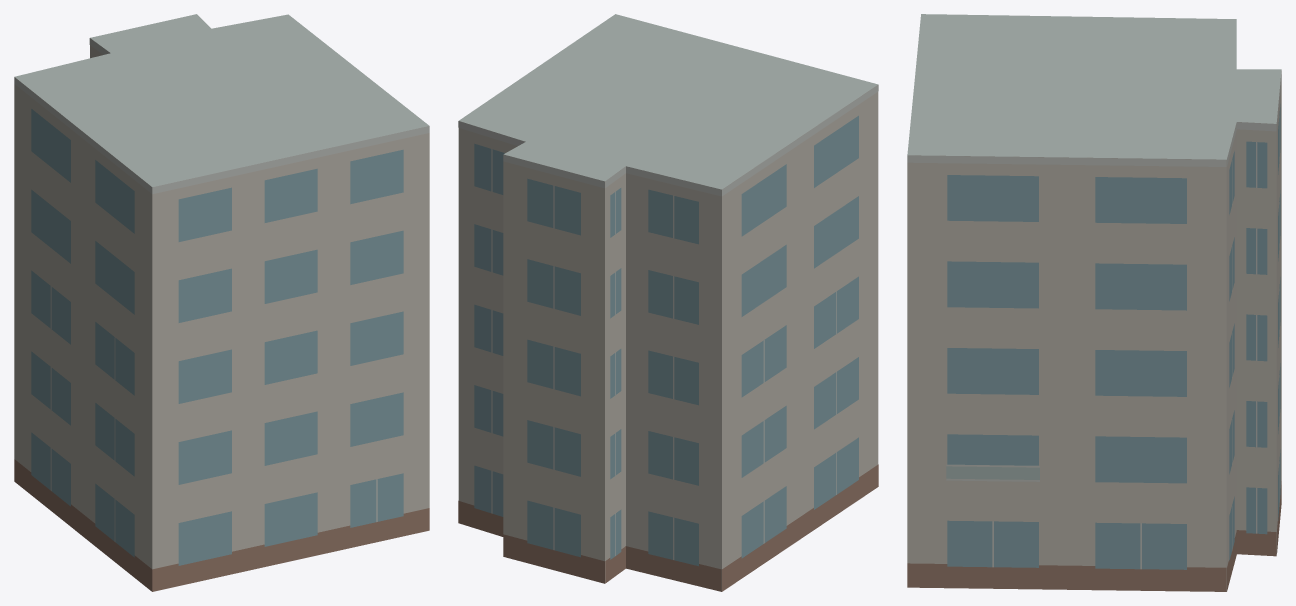
Rendered from survey-upis-32946123.glb.
3 renders of one model, left to right at view 1: azimuth 30°, elevation 25°; view 2: azimuth 150°, elevation 25°; view 3: azimuth 270°, elevation 25°, orthographic. The views are drawn at different scales.
Visible parts, largest first — view 1: survey-upis-32946123.tmp; view 2: survey-upis-32946123.tmp; view 3: survey-upis-32946123.tmp.
Part boxes in pixels (x1,y1,x2,y2): survey-upis-32946123.tmp: (14, 14, 429, 591); survey-upis-32946123.tmp: (458, 14, 878, 591); survey-upis-32946123.tmp: (907, 14, 1281, 591).
Bounding box in the file's own units: 10.19 × 14.1 × 11.07.
